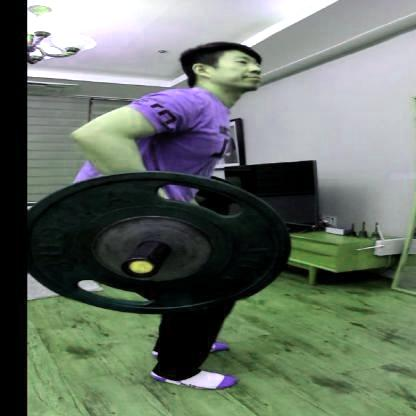Barbell: (113, 256, 165, 282)
